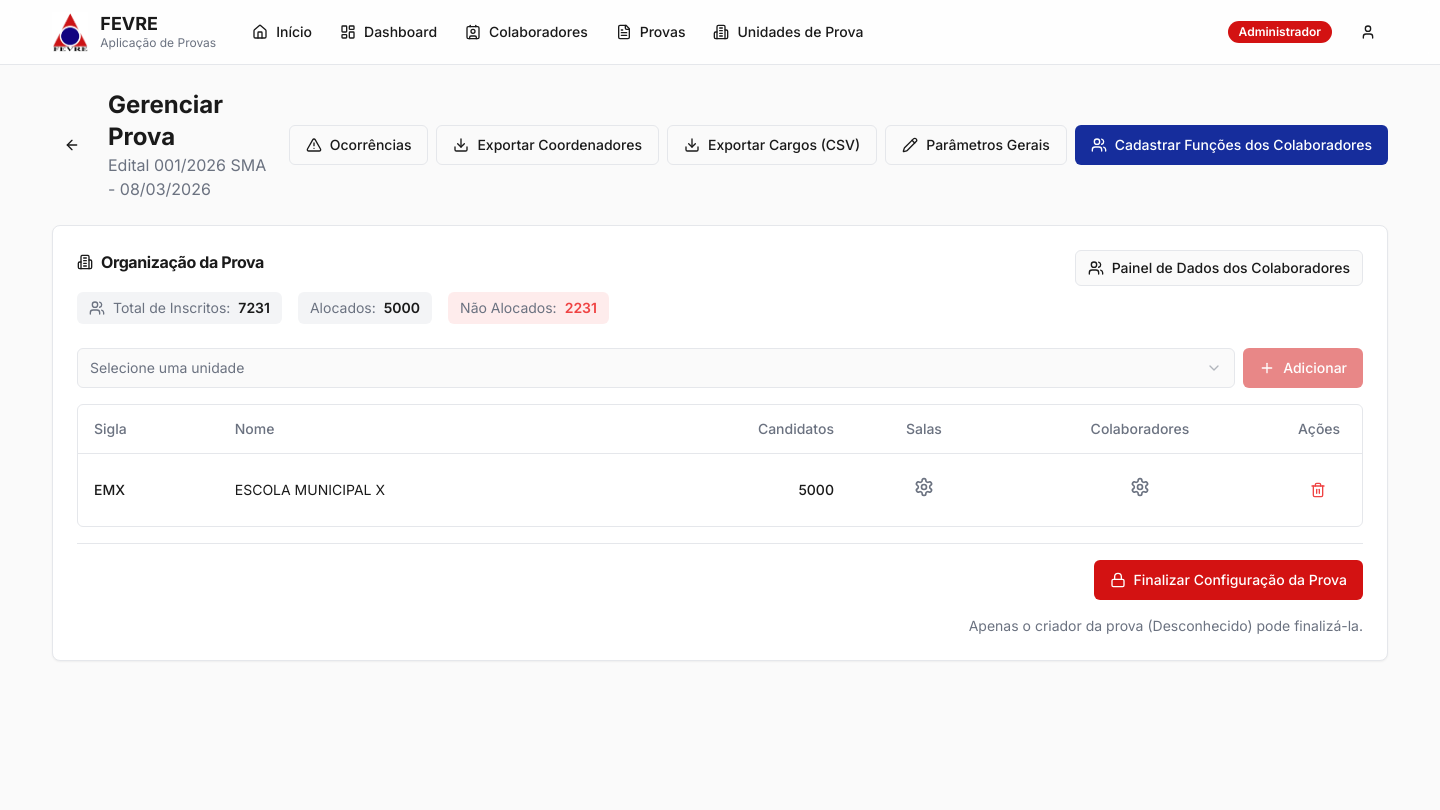
GerenciarProva — painel de alocação (interação) › 🔵 o seletor de unidades mostra a capacidade do cadastro › mostra a soma das salas cadastradas, no formato pedido
Click the dropdown. click: (167, 368)
box: 77,348 -> 1235,388
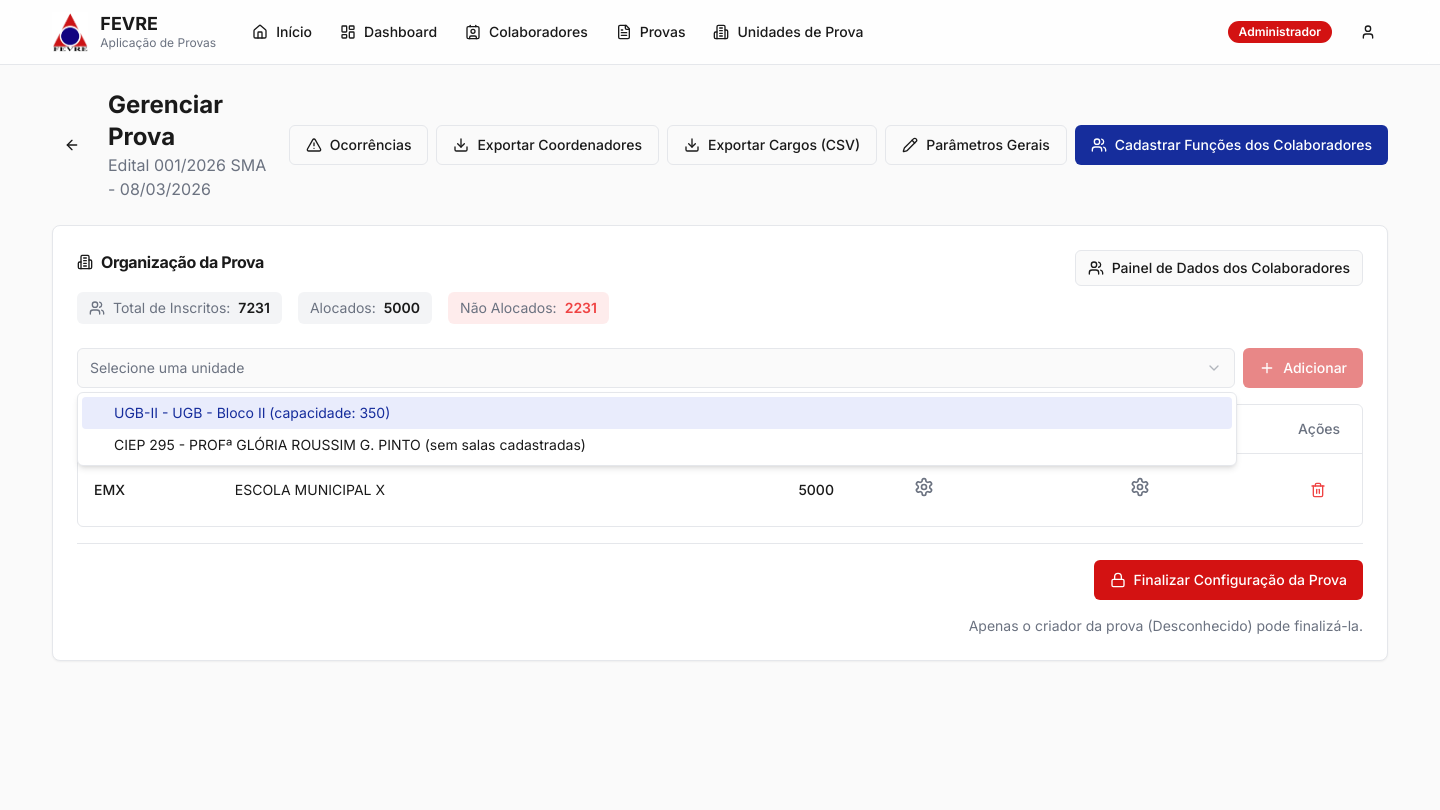
Check: the option "UGB-II - UGB - Bloco II (capacidade: 350)" is shown, box 82,397 -> 1232,429
